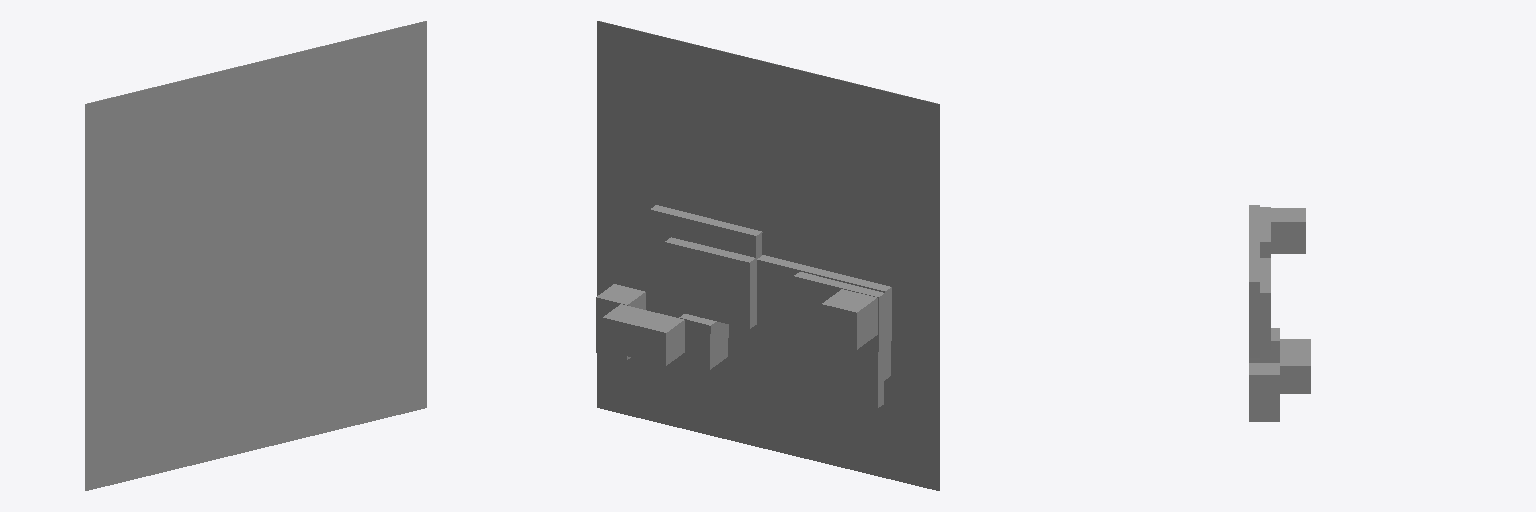
URDF robot description (cube.urdf):
<?xml version="1.0" ?>
<robot name="cube.urdf">
  <link concave="yes" name="baseLink">
    <contact>
      <lateral_friction value="0.5"/>
      <rolling_friction value="0.0"/>
      <contact_cfm value="0.0"/>
      <contact_erp value="1.0"/>
    </contact>
    <inertial>
      <origin rpy="0 0 0" xyz="0.07 0.05 0.03"/>
       <mass value="0"/>
       <inertia ixx="1" ixy="0" ixz="0" iyy="1" iyz="0" izz="1"/>
    </inertial>
    <visual>
      <origin rpy="0 0 0" xyz="0 0 0"/>
      <geometry>
        <mesh filename="12.obj" scale=".1 .1 .1"/>
      </geometry>
       <material name="red">
        <color rgba="0.65 0.65 0.65 1"/>
      </material>
    </visual>
    <collision concave="yes">
      <origin rpy="0 0 0" xyz="0 0 0"/>
      <geometry>
	 	<mesh filename="12.obj" scale=".1 .1 .1"/>
      </geometry>
    </collision>
  </link>
</robot>

--- Render facts (derived) ---
Views: 3 orthographic renders of the robot side by side, from view 1: azimuth 30°, elevation 25°; view 2: azimuth 150°, elevation 25°; view 3: azimuth 270°, elevation 25°.
Model cube.urdf with 1 links and 0 joints (none), rooted at baseLink, posed all joints at 0.
Links seen in each view (by area): view 1: baseLink; view 2: baseLink; view 3: baseLink.
Link boxes in pixels (<box>): baseLink: <box>85,21,426,490</box>; baseLink: <box>596,21,939,490</box>; baseLink: <box>1249,205,1310,421</box>.
Bounding box of the posed robot: 0.4902 × 0.0918 × 0.5294 m (x, y, z).
Meshes: 1 distinct files referenced, 1 mesh visuals loaded (1 OBJ).